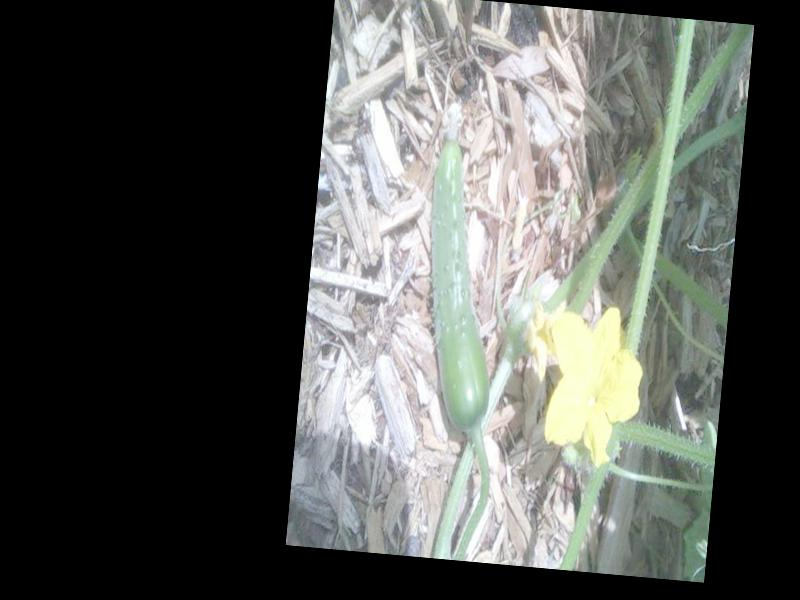Cucumber: (408, 107, 514, 437)
